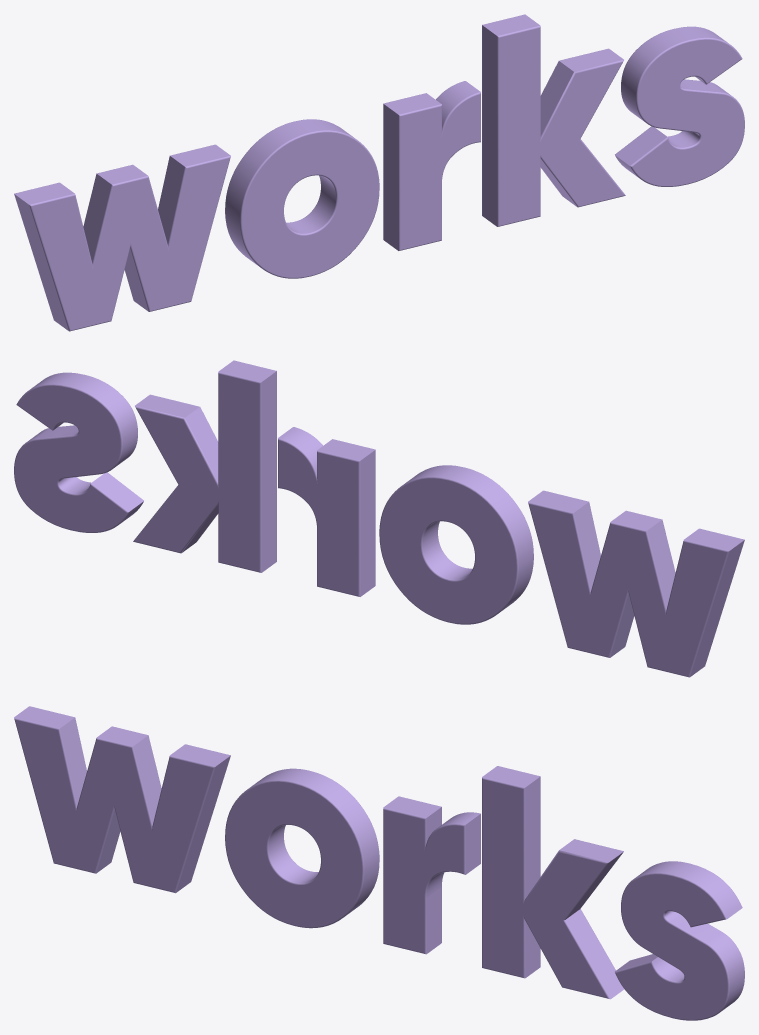
The model's file is works.gltf.
The picture shows the model from 3 angles, top to bottom: view 1: azimuth 30°, elevation 25°; view 2: azimuth 150°, elevation 25°; view 3: azimuth 330°, elevation 25°; orthographic projection.
Visible parts, largest first — view 1: w, k, o, s, r; view 2: w, k, o, s, r; view 3: w, k, o, s, r.
Boxes of the visible parts, bbox=[...] form: w: bbox=[14, 144, 230, 331]; k: bbox=[482, 14, 625, 226]; o: bbox=[225, 119, 379, 278]; s: bbox=[615, 26, 744, 186]; r: bbox=[383, 81, 480, 250]; w: bbox=[528, 490, 744, 677]; k: bbox=[133, 360, 276, 572]; o: bbox=[379, 465, 533, 624]; s: bbox=[14, 372, 143, 532]; r: bbox=[278, 427, 375, 596]; w: bbox=[14, 706, 230, 893]; k: bbox=[482, 766, 624, 999]; o: bbox=[225, 768, 379, 928]; s: bbox=[615, 861, 744, 1020]; r: bbox=[383, 796, 480, 954].
Bounding box in the file's own units: 549 × 143 × 22.
